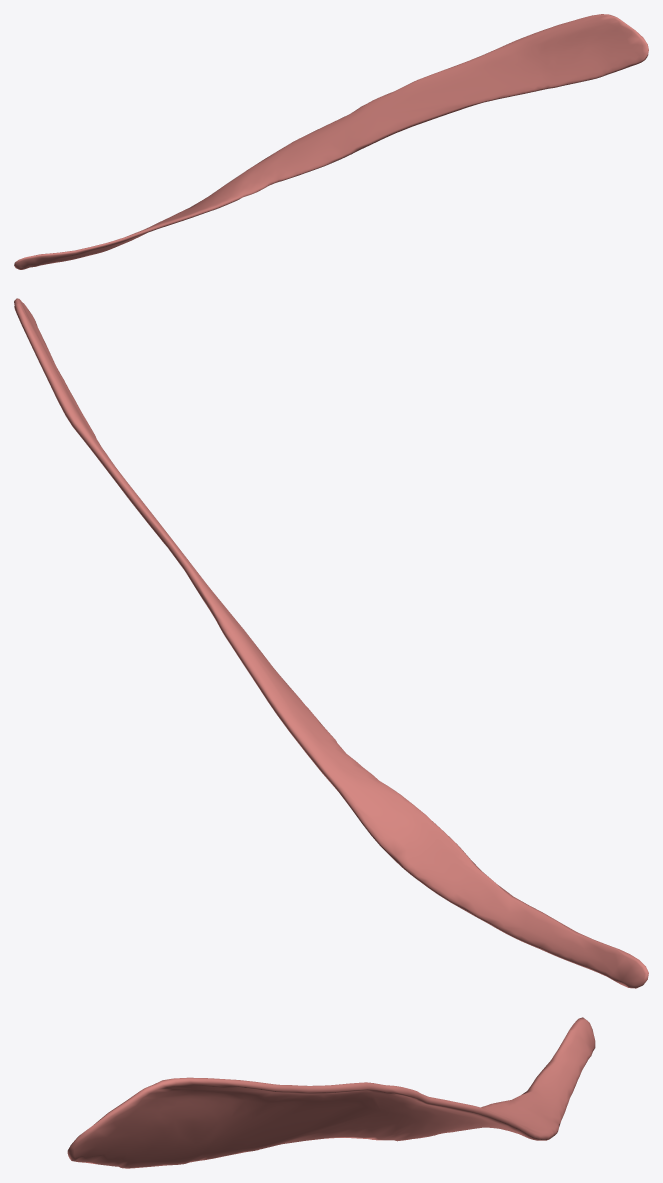
The picture shows the model from 3 angles, top to bottom: view 1: azimuth 30°, elevation 25°; view 2: azimuth 150°, elevation 25°; view 3: azimuth 270°, elevation 25°; orthographic projection. The views are drawn at different scales.
Parts seen in each view (by area): view 1: ZA_ebb477904fbdaec6; view 2: ZA_ebb477904fbdaec6; view 3: ZA_ebb477904fbdaec6.
Part boxes in pixels (x1,y1,x2,y2): ZA_ebb477904fbdaec6: (14, 14, 648, 269); ZA_ebb477904fbdaec6: (14, 298, 648, 988); ZA_ebb477904fbdaec6: (67, 1017, 595, 1168).
Bounding box in the file's own units: 0.0705 × 0.029 × 0.0318.
